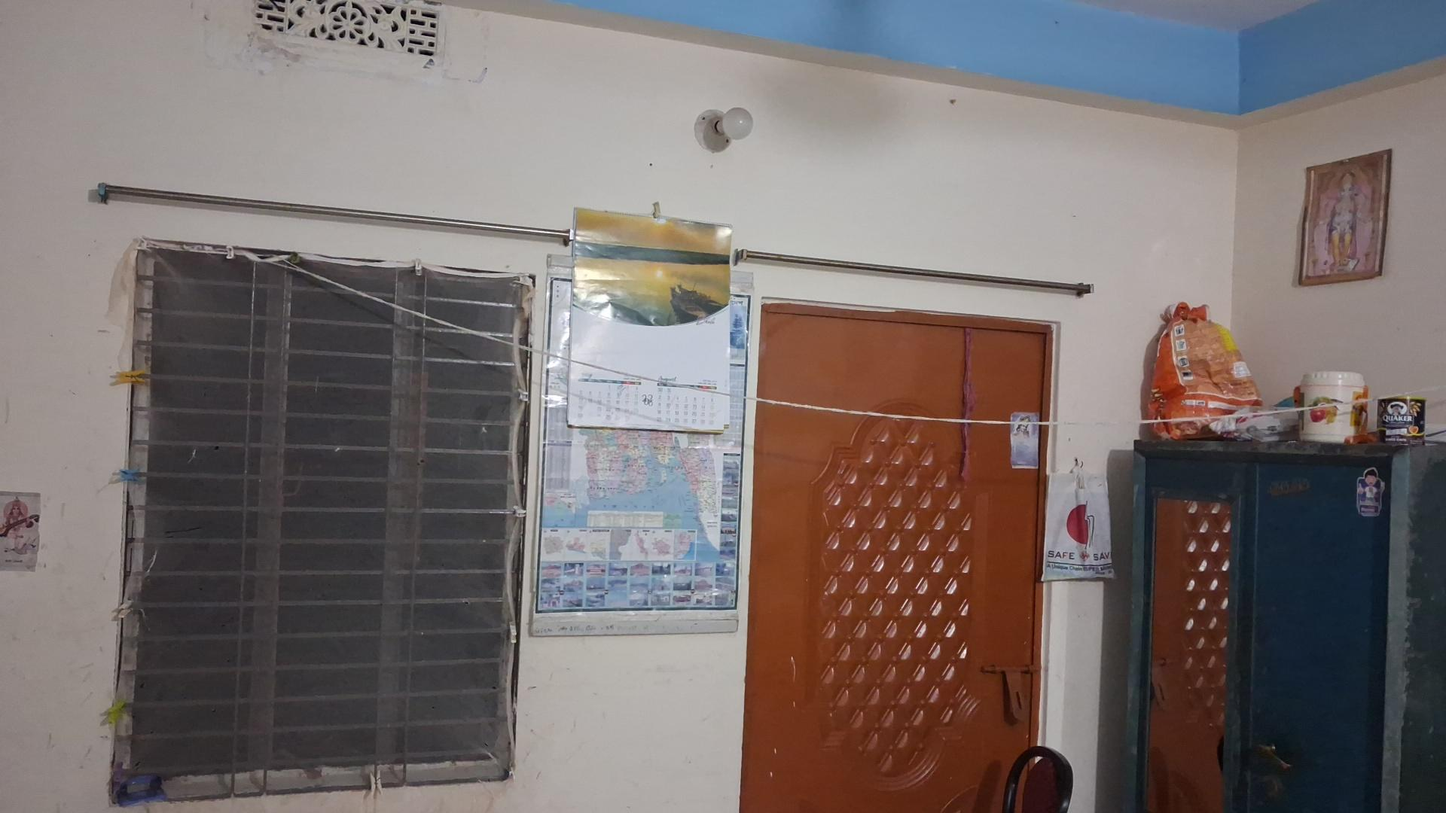Bag: (1143, 298, 1250, 444), (1036, 470, 1118, 588)
Door: (751, 282, 1066, 813)
Jar: (1296, 366, 1368, 448), (1377, 394, 1427, 444)
Light: (708, 102, 756, 154)
Photo: (1299, 146, 1394, 280), (0, 494, 41, 572), (1009, 410, 1043, 467), (1354, 467, 1386, 523)
Window: (116, 215, 525, 805)
